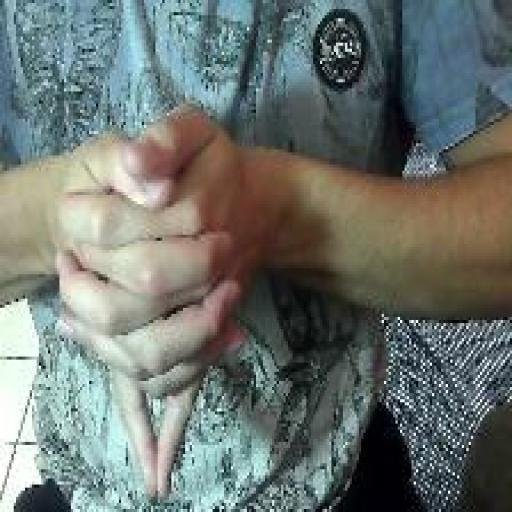Tatsu -dragon-: (48, 97, 247, 506)
